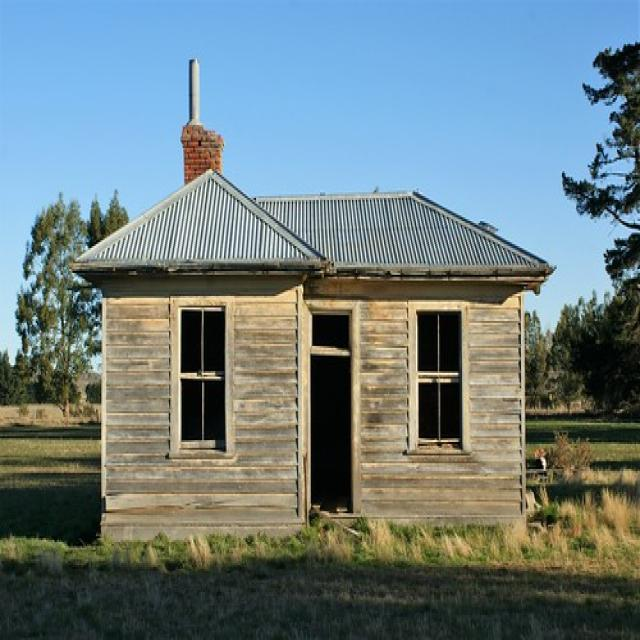building: (64, 165, 558, 540)
